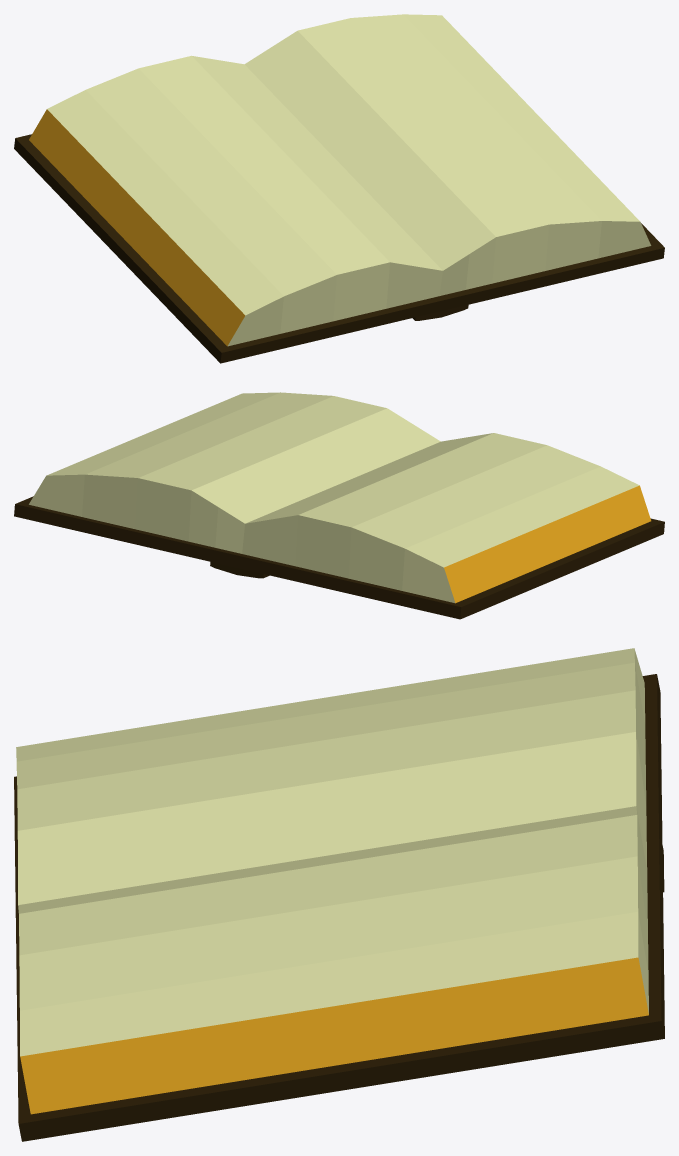
File: pedestal_book.fbx
3 views of the same model, one above another, from view 1: azimuth 30°, elevation 25°; view 2: azimuth 150°, elevation 25°; view 3: azimuth 270°, elevation 25° (orthographic). The views are drawn at different scales.
Parts seen in each view (by area): view 1: pedestal_book; view 2: pedestal_book; view 3: pedestal_book.
Part boxes in pixels (<box>): pedestal_book: <box>14,14,664,363</box>; pedestal_book: <box>14,392,664,619</box>; pedestal_book: <box>14,648,664,1141</box>.
Bounding box in the file's own units: 75.7 × 21.37 × 60.99.
